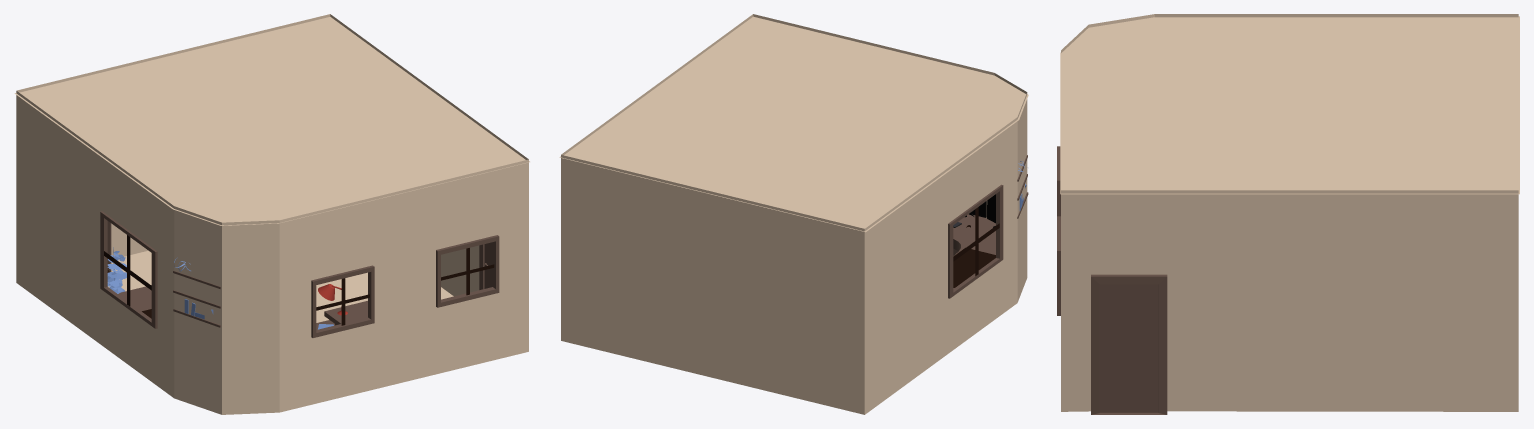
The model's file is JI.cenario.montagem.fbx.
3 renders of one model, left to right at view 1: azimuth 30°, elevation 25°; view 2: azimuth 150°, elevation 25°; view 3: azimuth 270°, elevation 25°, orthographic. The views are drawn at different scales.
Visible parts, largest first — view 1: paredes, paredes.001, janelas, janelas.003, mesa, porta, folhap1; view 2: paredes, paredes.001, janelas, mesa, Pano, janelas.003; view 3: paredes, paredes.001, porta, janelas.
Boxes of the visible parts, bbox=[...] form: paredes: bbox=[16, 14, 528, 414]; paredes.001: bbox=[14, 17, 529, 225]; janelas: bbox=[100, 211, 499, 337]; janelas.003: bbox=[104, 235, 494, 325]; mesa: bbox=[118, 285, 367, 329]; porta: bbox=[479, 242, 492, 289]; folhap1: bbox=[107, 251, 126, 293]; paredes: bbox=[561, 14, 1027, 414]; paredes.001: bbox=[559, 16, 1028, 232]; janelas: bbox=[948, 184, 1003, 298]; mesa: bbox=[953, 214, 995, 288]; Pano: bbox=[953, 247, 995, 287]; janelas.003: bbox=[953, 207, 999, 276]; paredes: bbox=[1061, 14, 1518, 411]; paredes.001: bbox=[1060, 16, 1519, 194]; porta: bbox=[1091, 274, 1167, 414]; janelas: bbox=[1057, 146, 1060, 315].
Bounding box in the file's own units: 6857 × 3917 × 7384.
